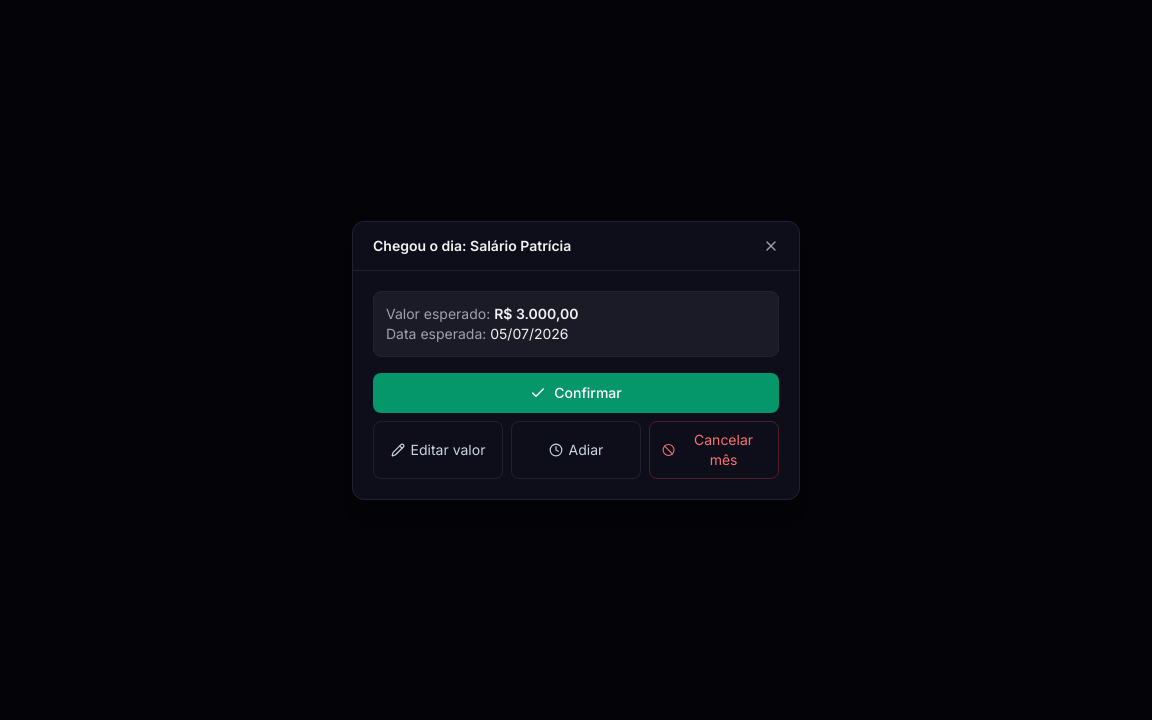
Test case: OcorrenciaDecisaoModal › Editar valor abre o input e, ao continuar, pergunta se atualiza a recorrência
Click the button "Editar valor" at (438, 450), box [373, 420, 503, 478]
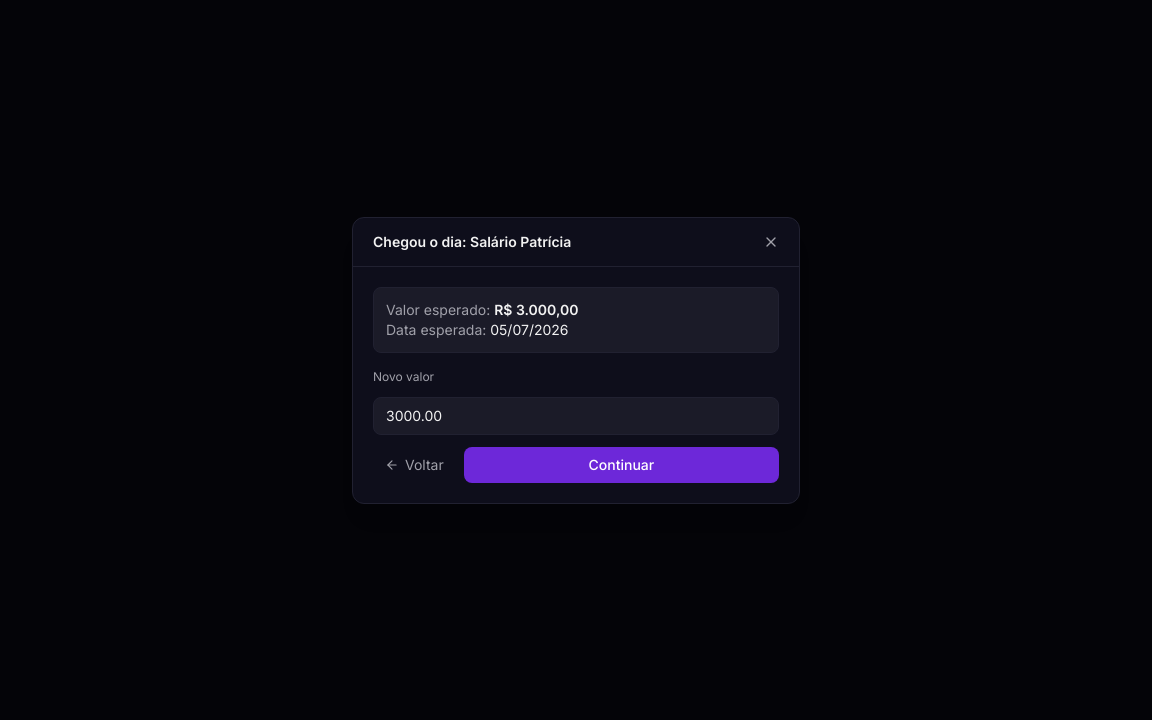
Now the number field is shown
Replace the text in the number field with "3500" at (576, 416), box [373, 396, 779, 434]
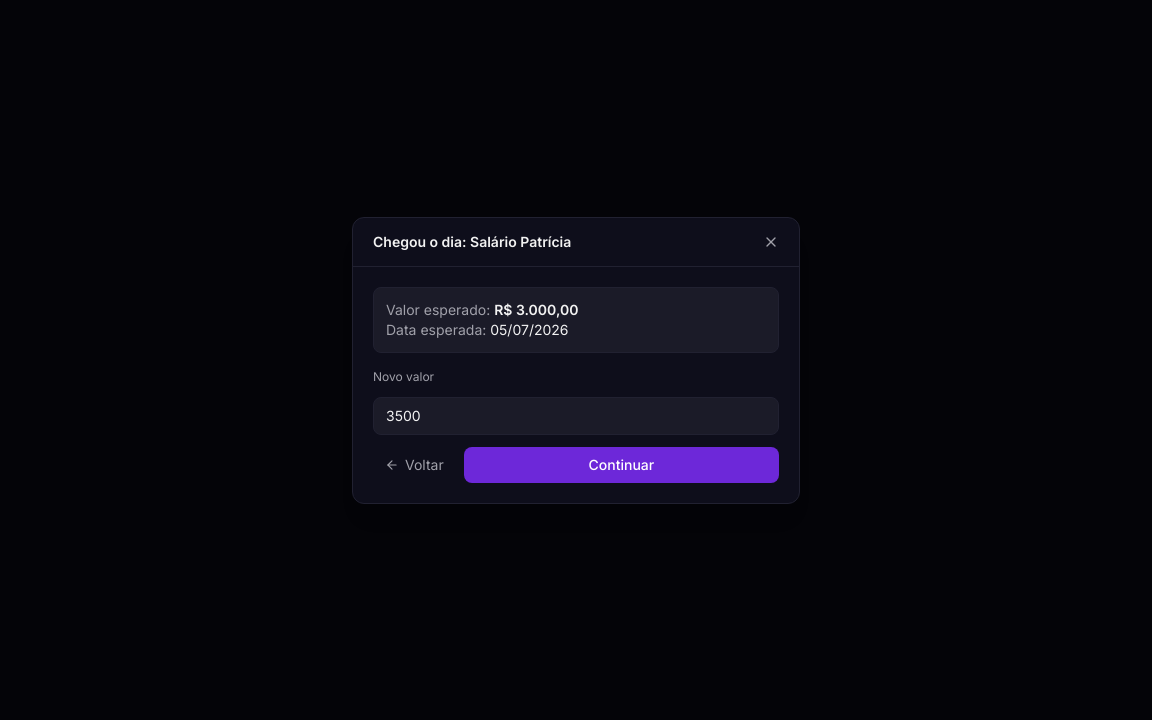
Click the button "Continuar" at (621, 464), box [464, 446, 779, 482]
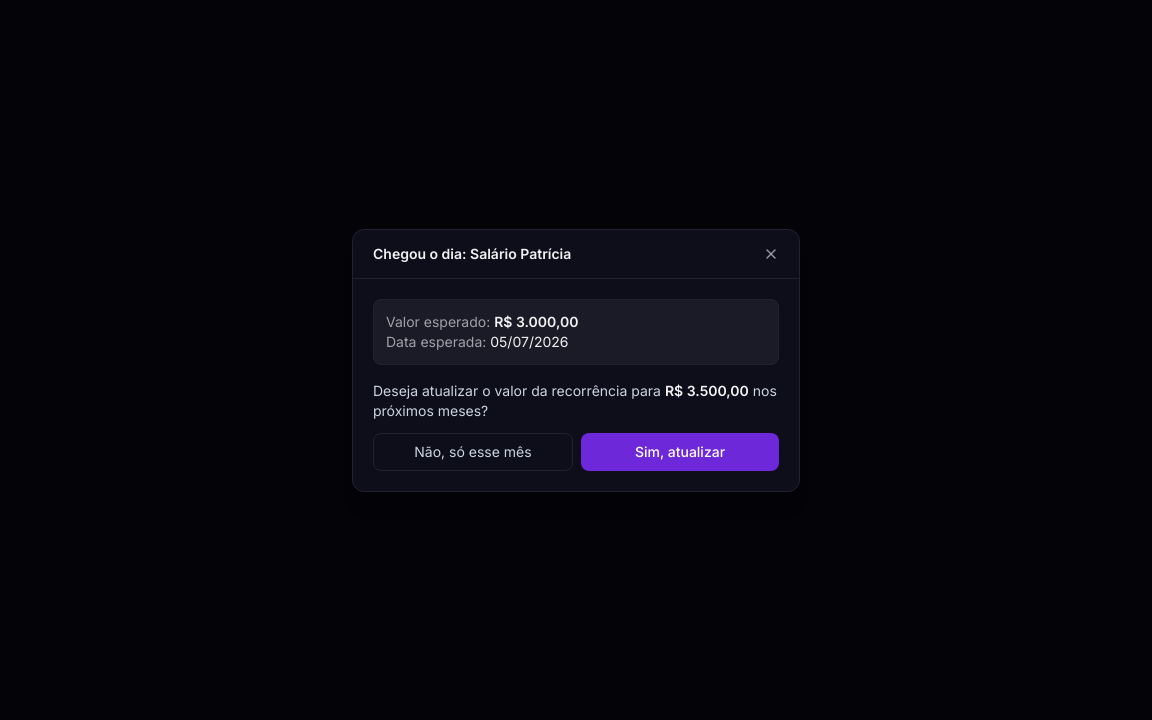
Now the text "Deseja atualizar o valor da recorrência" is shown, box [373, 382, 661, 398]
Now the button "Sim, atualizar" is shown, box [581, 432, 779, 470]
Now the button "Não, só esse mês" is shown, box [373, 432, 573, 470]
